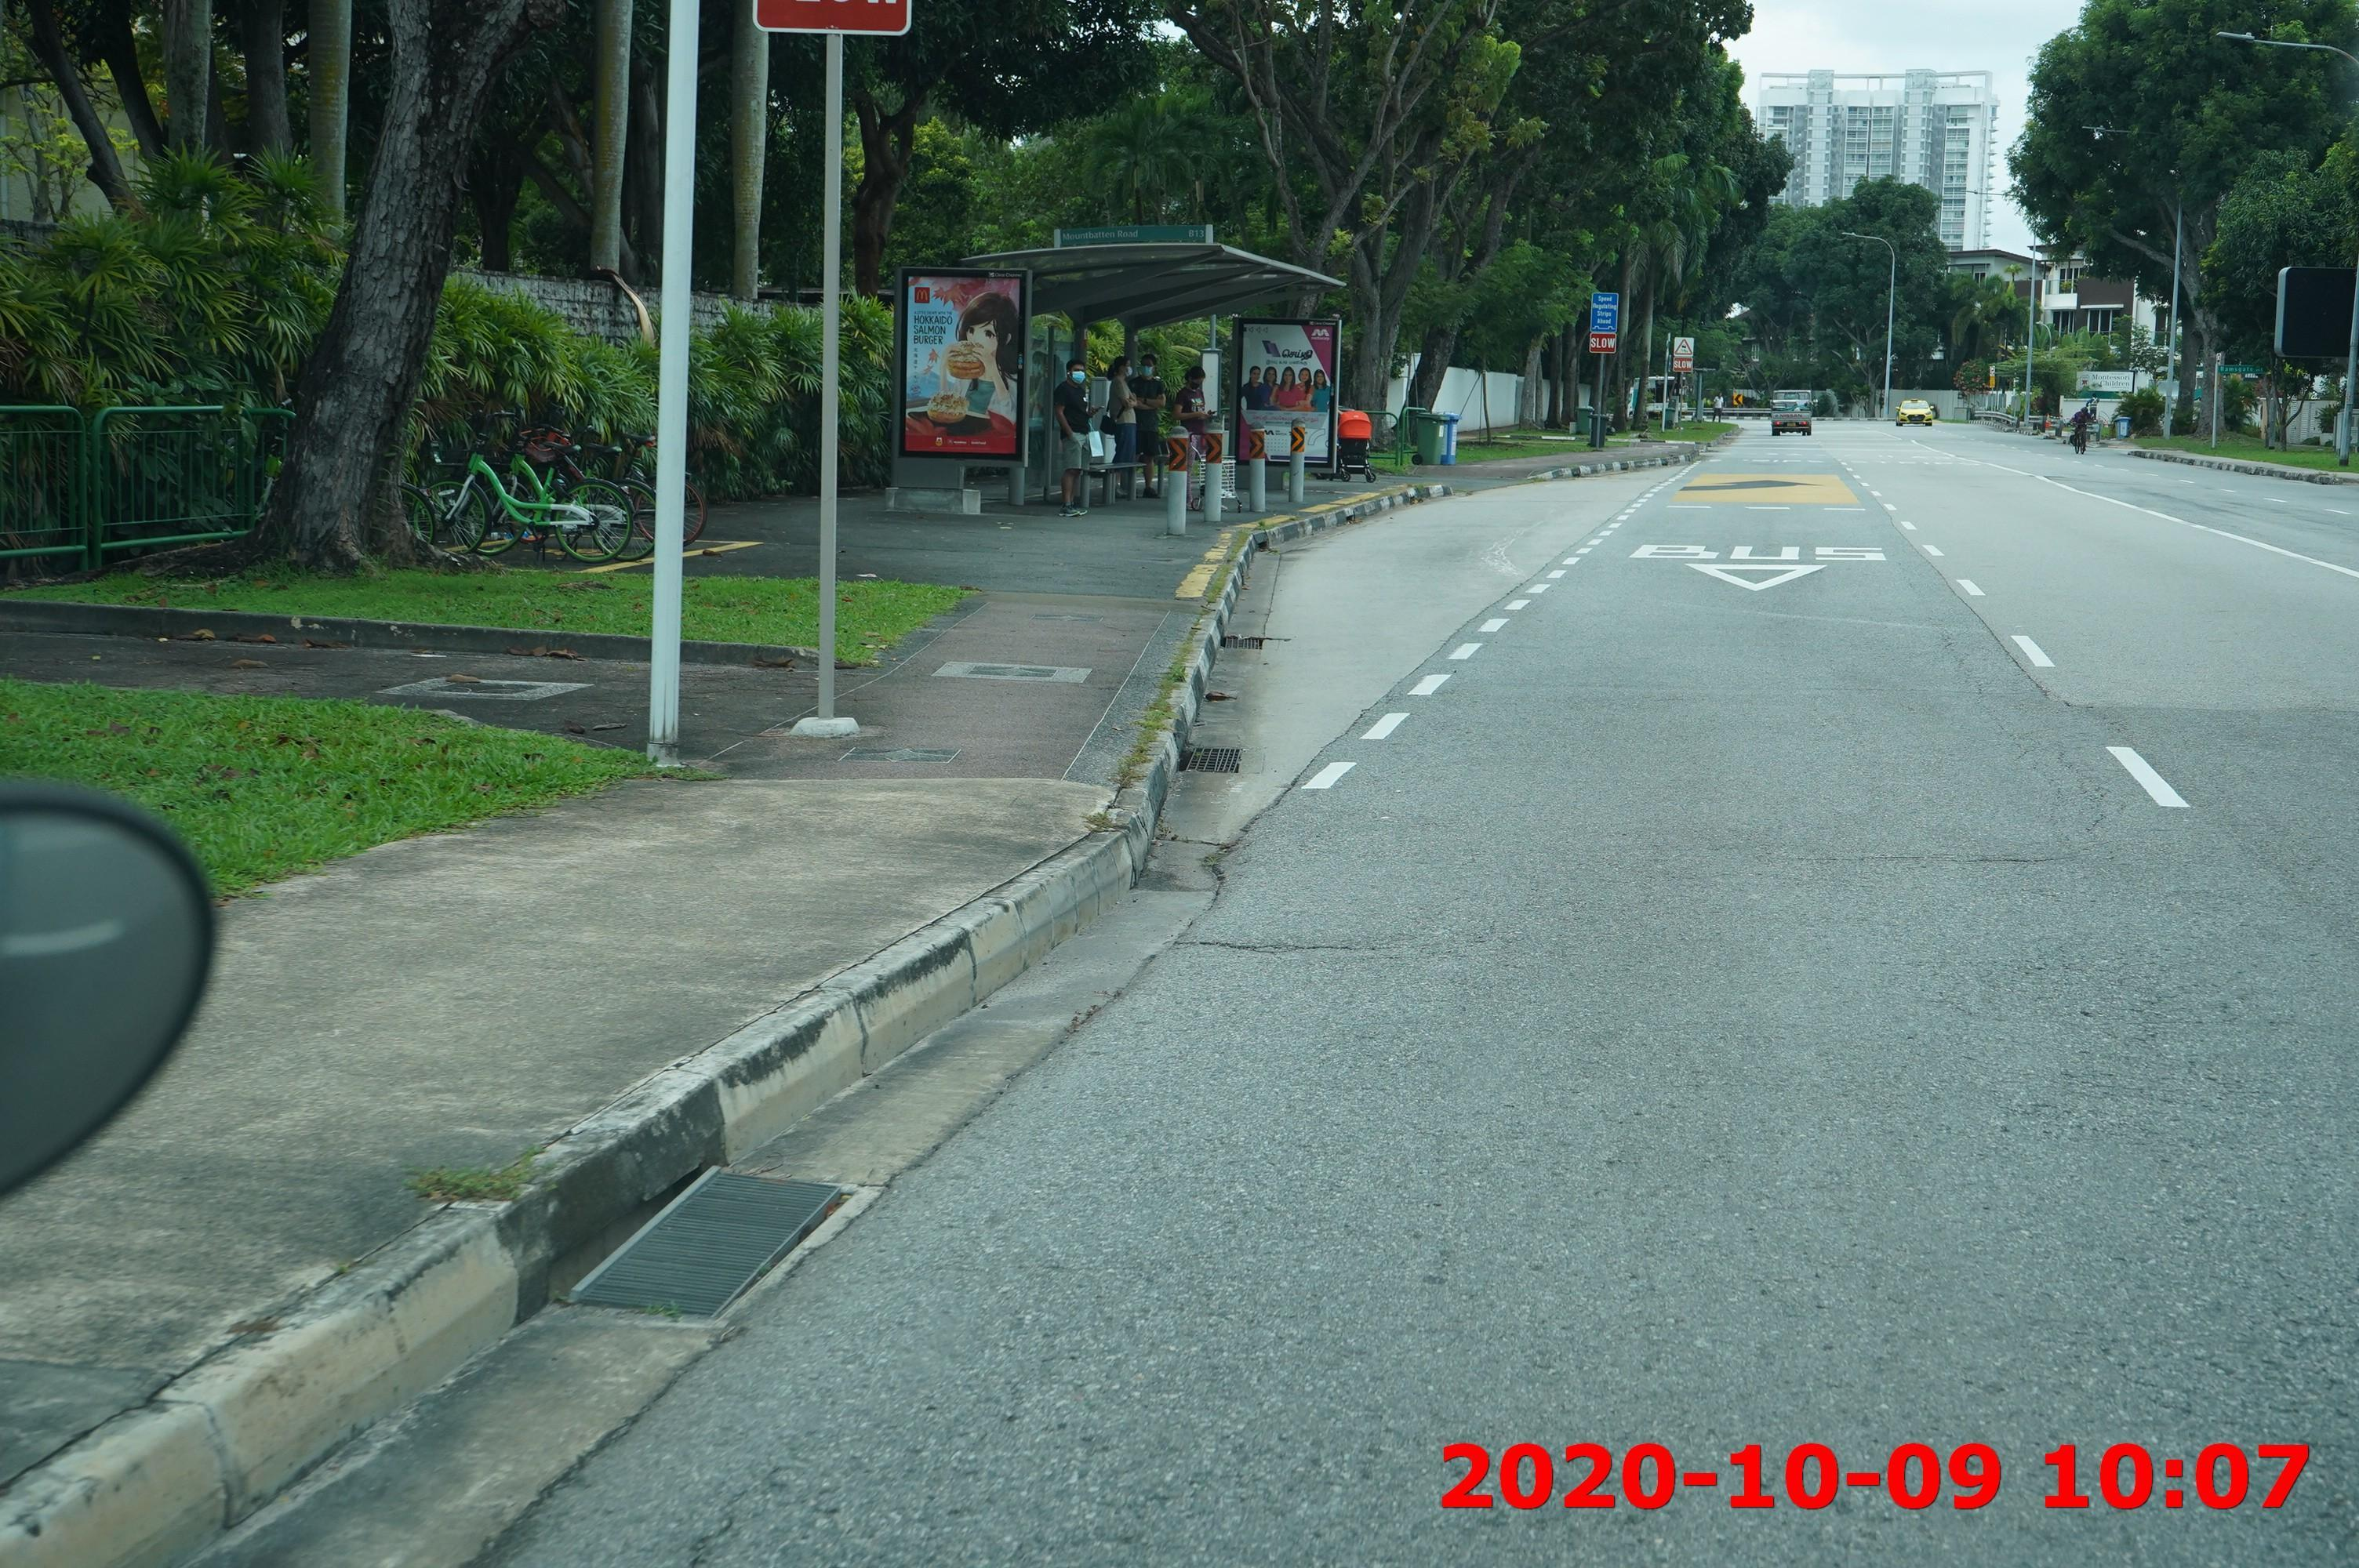transverse crack: (1181, 926, 1377, 963), (1795, 851, 1939, 872)
